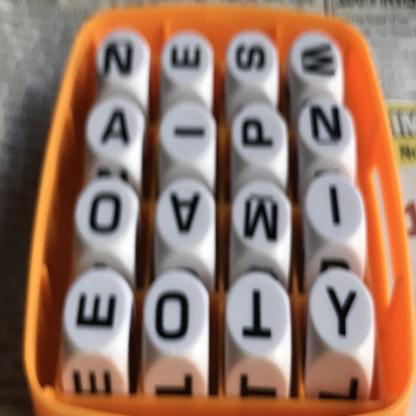a: (162, 171, 208, 244), (93, 92, 139, 160)
e: (68, 273, 125, 349), (167, 31, 208, 81)
i: (164, 100, 213, 167), (315, 173, 357, 242)
m: (235, 175, 287, 258)
n: (303, 90, 354, 159), (95, 26, 144, 86)
o: (146, 270, 198, 354), (86, 180, 131, 243)
p: (234, 100, 280, 163)
s: (232, 30, 273, 83)
t: (228, 277, 286, 360)
w: (294, 29, 340, 92)
y: (316, 269, 369, 352)
